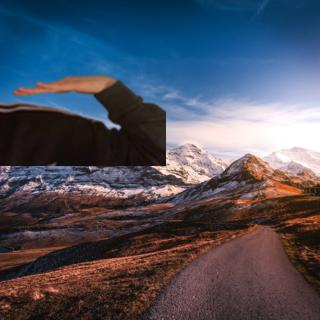Wait: (6, 69, 117, 102)
